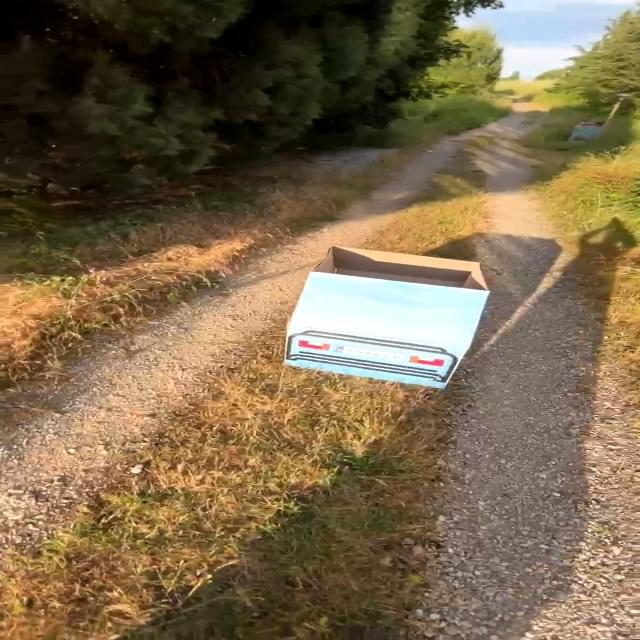blue_car: (217, 234, 522, 418)
